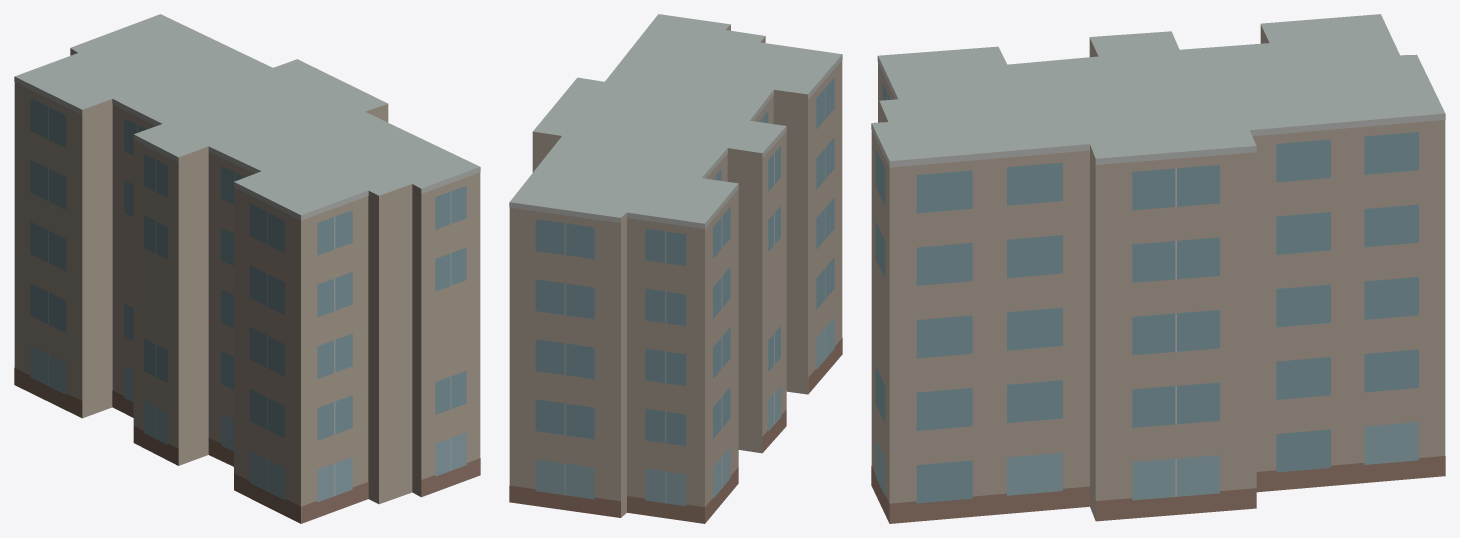
Rendered from survey-upis-32751214.glb.
3 views of the same model, side by side, from view 1: azimuth 30°, elevation 25°; view 2: azimuth 150°, elevation 25°; view 3: azimuth 270°, elevation 25° (orthographic). The views are drawn at different scales.
Parts seen in each view (by area): view 1: survey-upis-32751214.tmp; view 2: survey-upis-32751214.tmp; view 3: survey-upis-32751214.tmp.
Boxes of the visible parts, x1,y1,x2,y2 form: survey-upis-32751214.tmp: [14, 14, 480, 523]; survey-upis-32751214.tmp: [509, 14, 842, 523]; survey-upis-32751214.tmp: [871, 14, 1445, 523].
Bounding box in the file's own units: 12.12 × 13.9 × 19.95.
